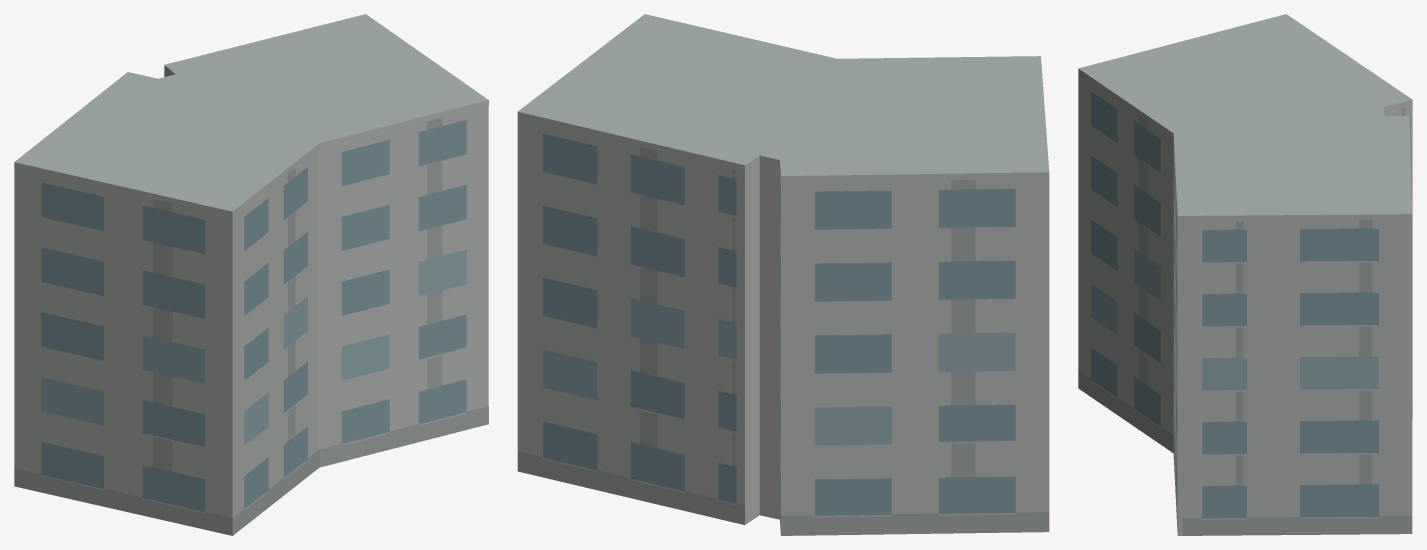
The model's file is survey-upis-33030099.glb.
3 renders of one model, left to right at view 1: azimuth 30°, elevation 25°; view 2: azimuth 150°, elevation 25°; view 3: azimuth 270°, elevation 25°, orthographic. The views are drawn at different scales.
Visible parts, largest first — view 1: survey-upis-33030099.tmp; view 2: survey-upis-33030099.tmp; view 3: survey-upis-33030099.tmp.
Part boxes in pixels (x1,y1,x2,y2): survey-upis-33030099.tmp: [14, 14, 488, 535]; survey-upis-33030099.tmp: [517, 14, 1049, 535]; survey-upis-33030099.tmp: [1078, 14, 1412, 535].
Bounding box in the file's own units: 18.83 × 13.9 × 13.17.
